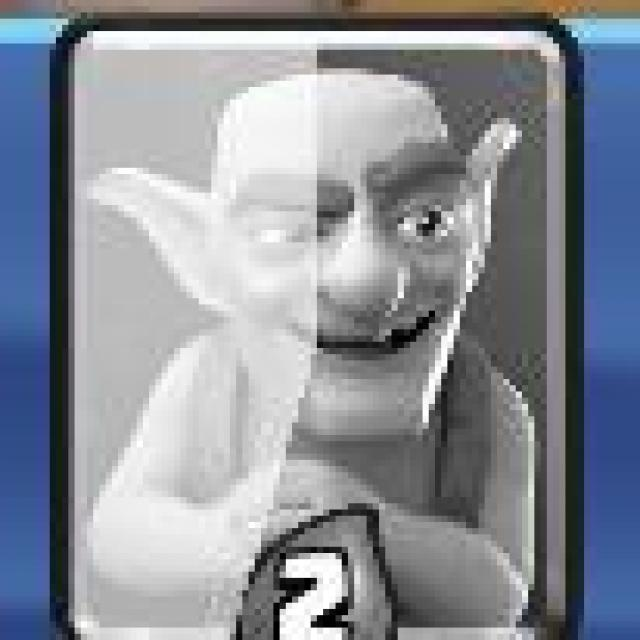Goblins: (52, 11, 580, 640)
